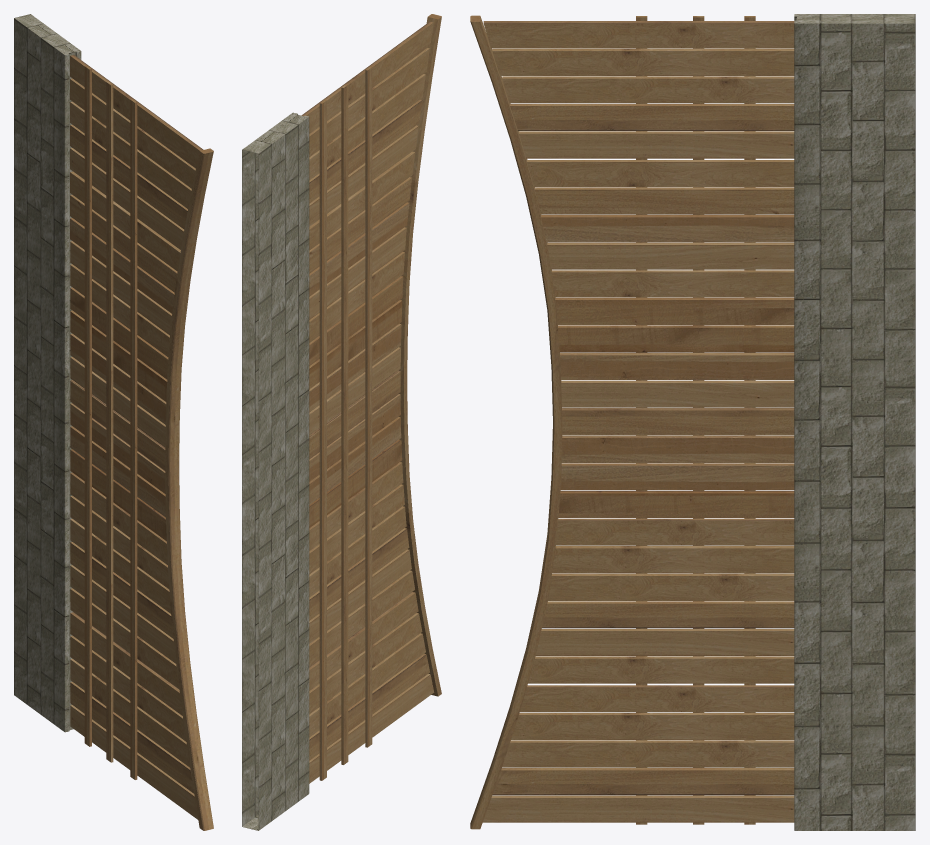
Rendered from nt_concrete_fence_156_tall_LOD0.obj.
3 views of the same model, side by side, from view 1: azimuth 30°, elevation 25°; view 2: azimuth 150°, elevation 25°; view 3: azimuth 270°, elevation 25° (orthographic). The views are drawn at different scales.
Visible parts, largest first — view 1: nt_wood_fence, nt_2020_concrete_pattern_02; view 2: nt_wood_fence, nt_2020_concrete_pattern_02; view 3: nt_wood_fence, nt_2020_concrete_pattern_02.
Part boxes in pixels (x1,y1,x2,y2): nt_wood_fence: (70, 55, 213, 830); nt_2020_concrete_pattern_02: (14, 14, 81, 732); nt_wood_fence: (301, 14, 441, 783); nt_2020_concrete_pattern_02: (242, 112, 309, 830); nt_wood_fence: (470, 15, 794, 829); nt_2020_concrete_pattern_02: (794, 14, 915, 830).
Bounding box in the file's own units: 10.16 × 396 × 198.
Materials: 2 (2 with a texture image).
